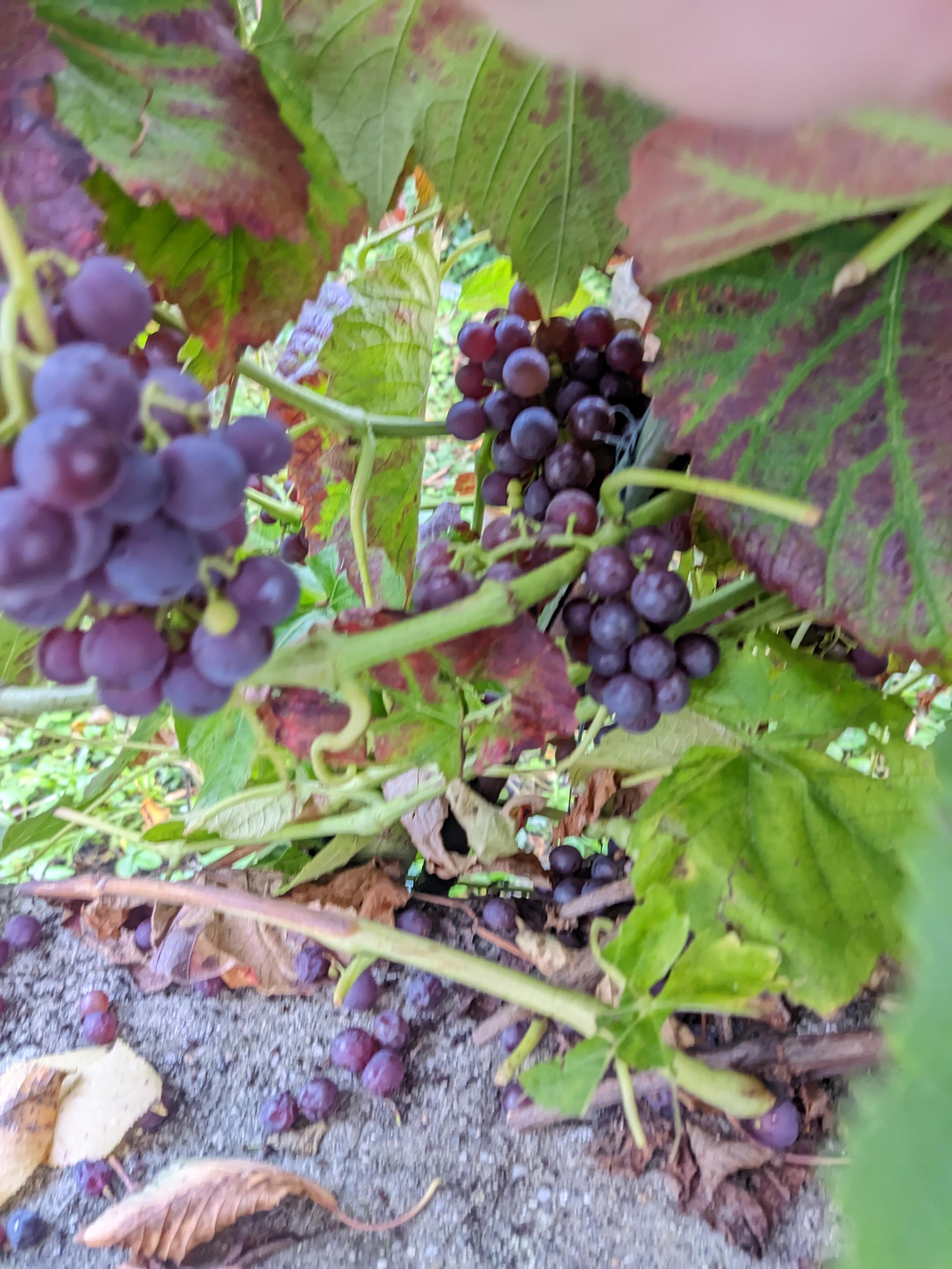Grape Unripe: (2, 265, 306, 714), (447, 282, 649, 549), (564, 533, 723, 732)
